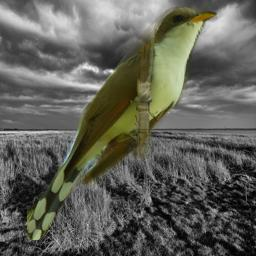Cuckoo: (27, 7, 217, 240)
